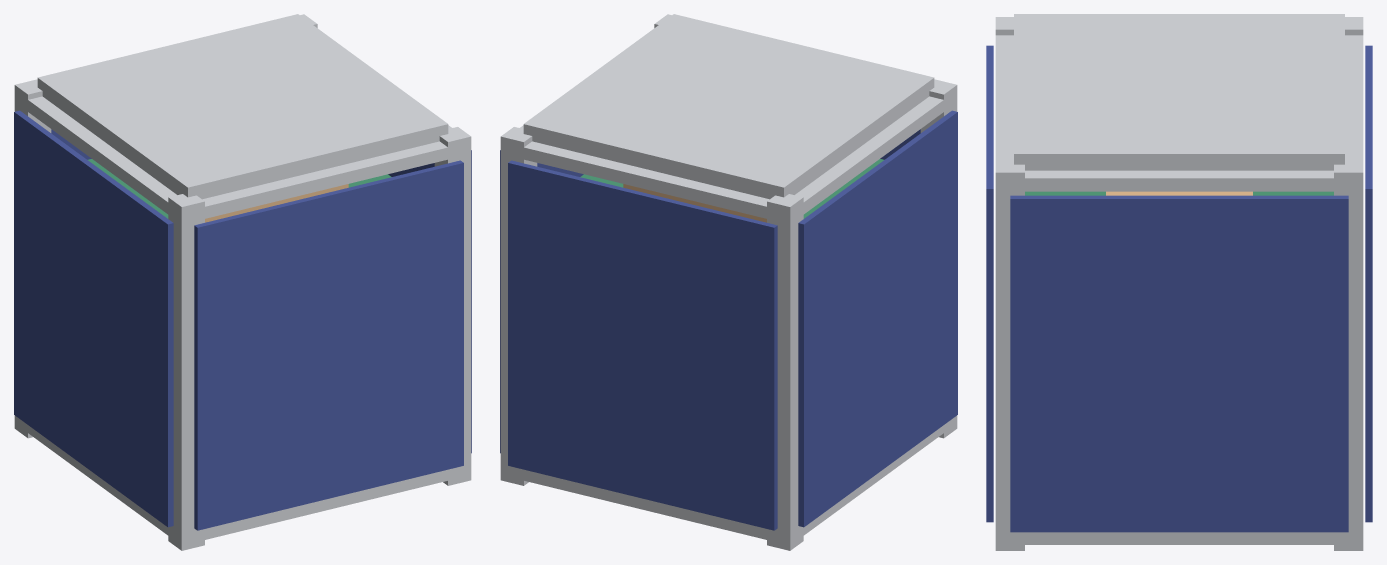
File: cubesat-basico.glb
3 renders of one model, left to right at view 1: azimuth 30°, elevation 25°; view 2: azimuth 150°, elevation 25°; view 3: azimuth 270°, elevation 25°, orthographic. The views are drawn at different scales.
Parts seen in each view (by area): view 1: Panel_ZP, Panel_XN, Antena_Modulo, Marco_Superior, Riel_4, Marco_Inferior, Riel_3, Riel_1, Radio_Blindaje, Radio_Board; view 2: Panel_ZN, Panel_XN, Antena_Modulo, Marco_Superior, Riel_1, Marco_Inferior, Riel_2, Riel_4, Radio_Blindaje, Radio_Board; view 3: Panel_XP, Antena_Modulo, Marco_Superior, Riel_3, Riel_2, Marco_Inferior, Panel_ZP, Panel_ZN, Radio_Board, Radio_Blindaje.
Part boxes in pixels (bbox=[...]): Panel_ZP: bbox=[194, 160, 463, 530]; Panel_XN: bbox=[14, 110, 173, 527]; Antena_Modulo: bbox=[37, 14, 448, 199]; Marco_Superior: bbox=[14, 90, 471, 224]; Riel_4: bbox=[168, 194, 204, 550]; Marco_Inferior: bbox=[14, 416, 471, 545]; Riel_3: bbox=[434, 127, 471, 485]; Riel_1: bbox=[14, 79, 51, 438]; Radio_Blindaje: bbox=[205, 184, 348, 222]; Radio_Board: bbox=[88, 159, 391, 218]; Panel_ZN: bbox=[508, 160, 777, 530]; Panel_XN: bbox=[798, 110, 957, 527]; Antena_Modulo: bbox=[523, 14, 934, 199]; Marco_Superior: bbox=[500, 90, 957, 222]; Riel_1: bbox=[767, 194, 803, 550]; Marco_Inferior: bbox=[501, 415, 957, 545]; Riel_2: bbox=[500, 127, 537, 485]; Riel_4: bbox=[920, 79, 957, 438]; Radio_Blindaje: bbox=[623, 184, 766, 222]; Radio_Board: bbox=[580, 159, 883, 218]; Panel_XP: bbox=[1010, 195, 1348, 532]; Antena_Modulo: bbox=[1014, 14, 1344, 170]; Marco_Superior: bbox=[995, 35, 1363, 191]; Riel_3: bbox=[995, 160, 1024, 550]; Riel_2: bbox=[1334, 160, 1363, 550]; Marco_Inferior: bbox=[995, 532, 1363, 544]; Panel_ZP: bbox=[986, 45, 993, 522]; Panel_ZN: bbox=[1365, 45, 1372, 522]; Radio_Board: bbox=[1025, 191, 1333, 195]; Radio_Blindaje: bbox=[1106, 191, 1252, 195].
Size of the model in its own units: 10.5 by 11.68 by 10.5.
